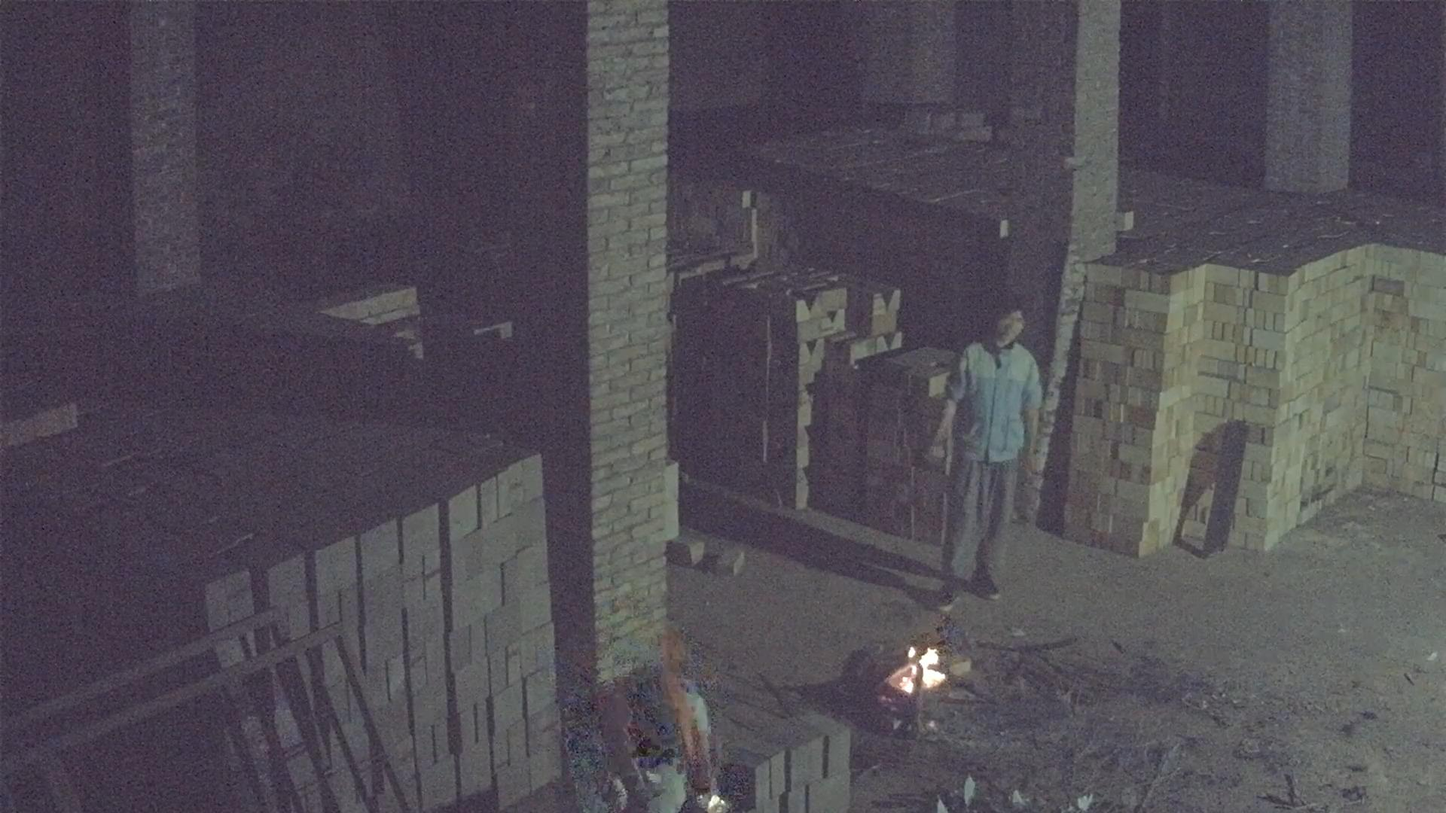fire: (886, 647, 947, 698)
